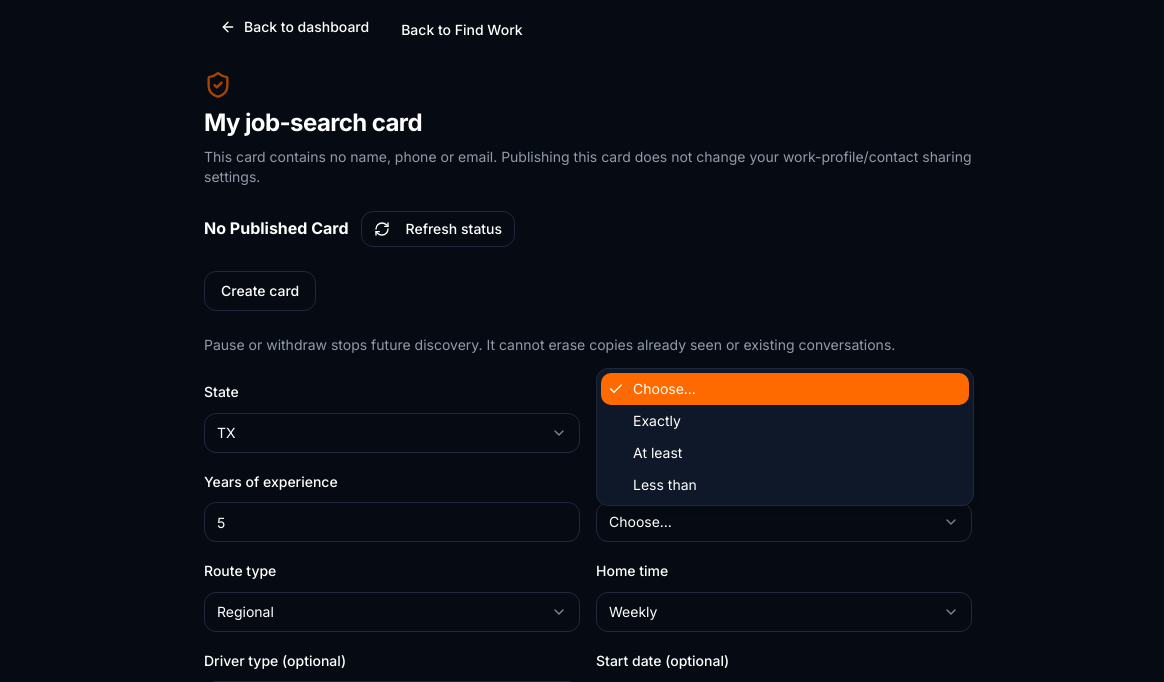
Test: editing invalidates review and consent; optional gross must be explicitly included
Earlier steps of the test are not shown.
Click the option "At least" at (658, 452), box [633, 444, 682, 461]
(page scrolled)
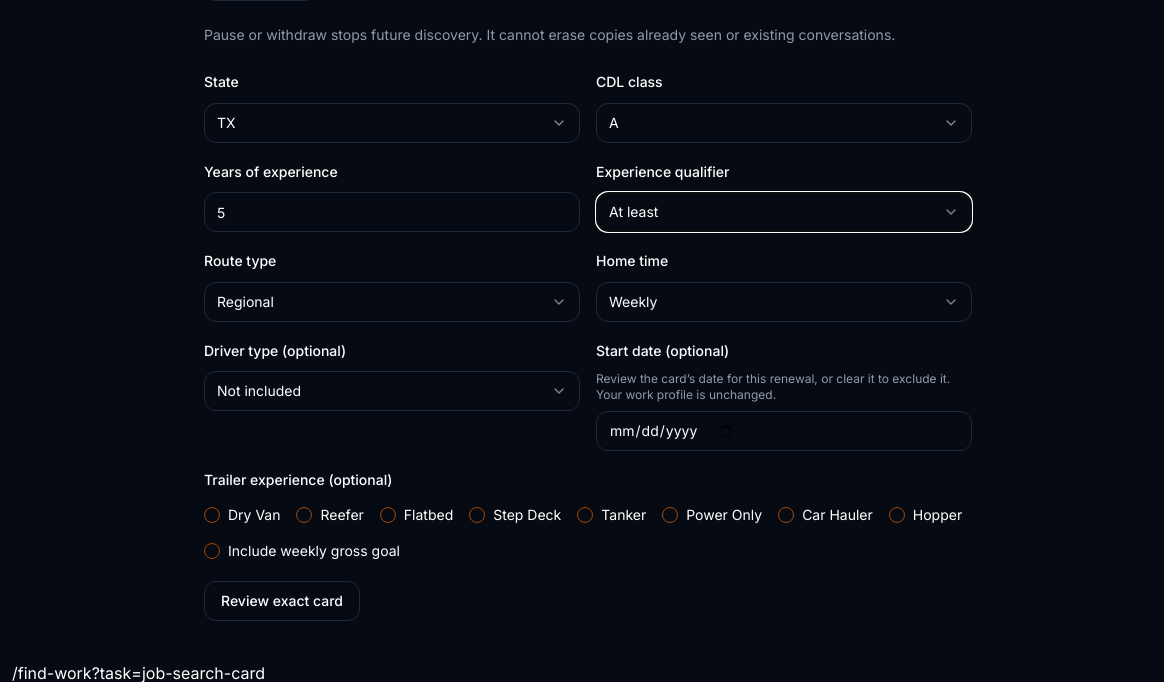
Click the button "Review exact card" at (282, 601), box [204, 581, 360, 621]
(page scrolled)
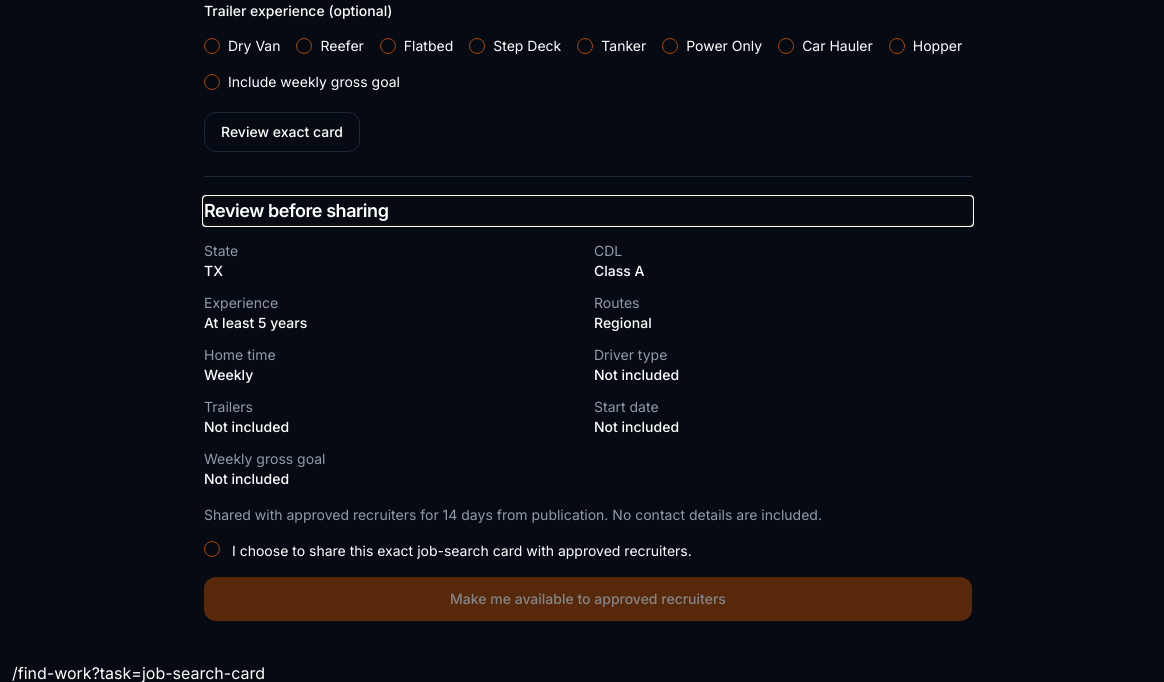
Result: the heading "Review before sharing" is shown at [204, 200, 388, 221]
Click the checkbox named "I choose" below "Trailers" at (212, 549), box [204, 541, 220, 557]
(page scrolled)
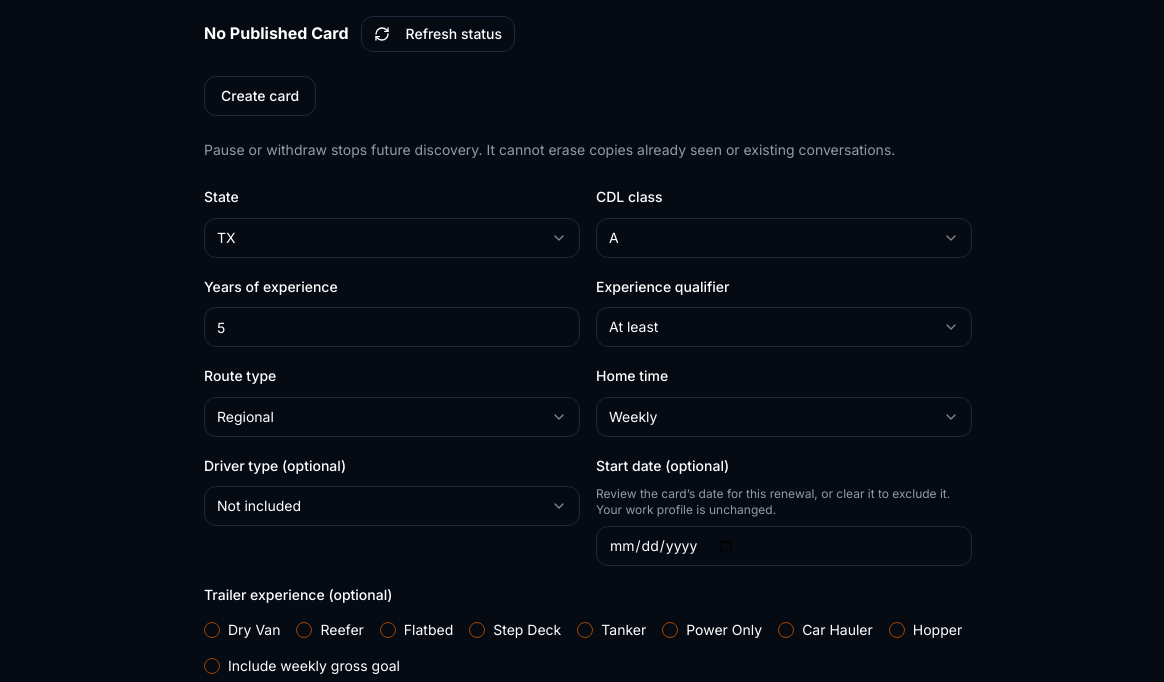
Replace the text in the number field labelled "Years of experience" with "6" at (392, 327), box [204, 307, 580, 347]
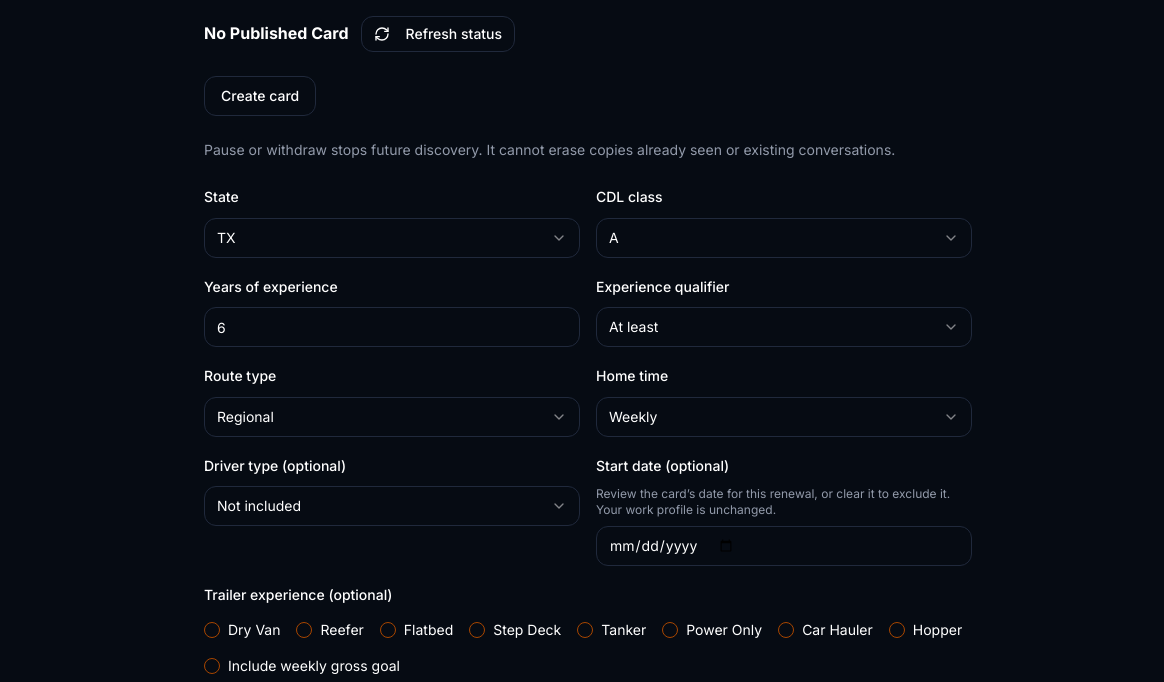
Expected: the heading "Review before sharing" is not shown
Click the checkbox named "Include weekly gross goal" next to "Include weekly gross goal" at (212, 666), box [204, 658, 220, 674]
(page scrolled)
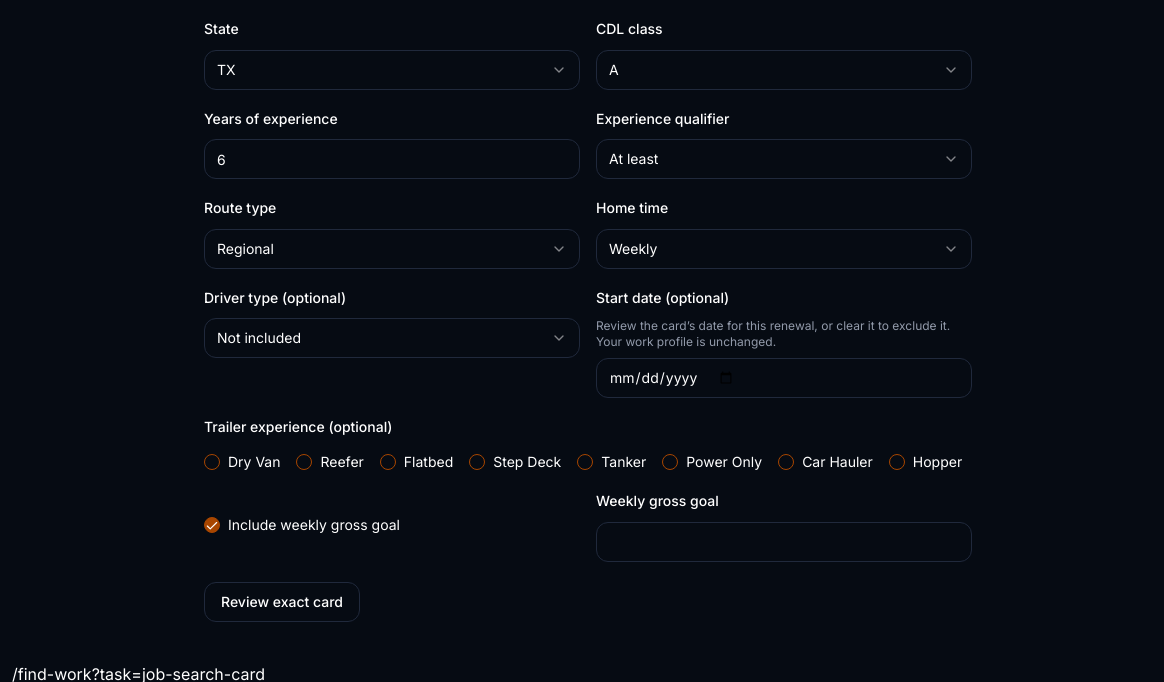
Type "1900" into the number field labelled "Weekly gross goal" at (784, 542), box [596, 522, 972, 562]
Click the button "Review exact card" at (282, 602), box [204, 582, 360, 622]
(page scrolled)
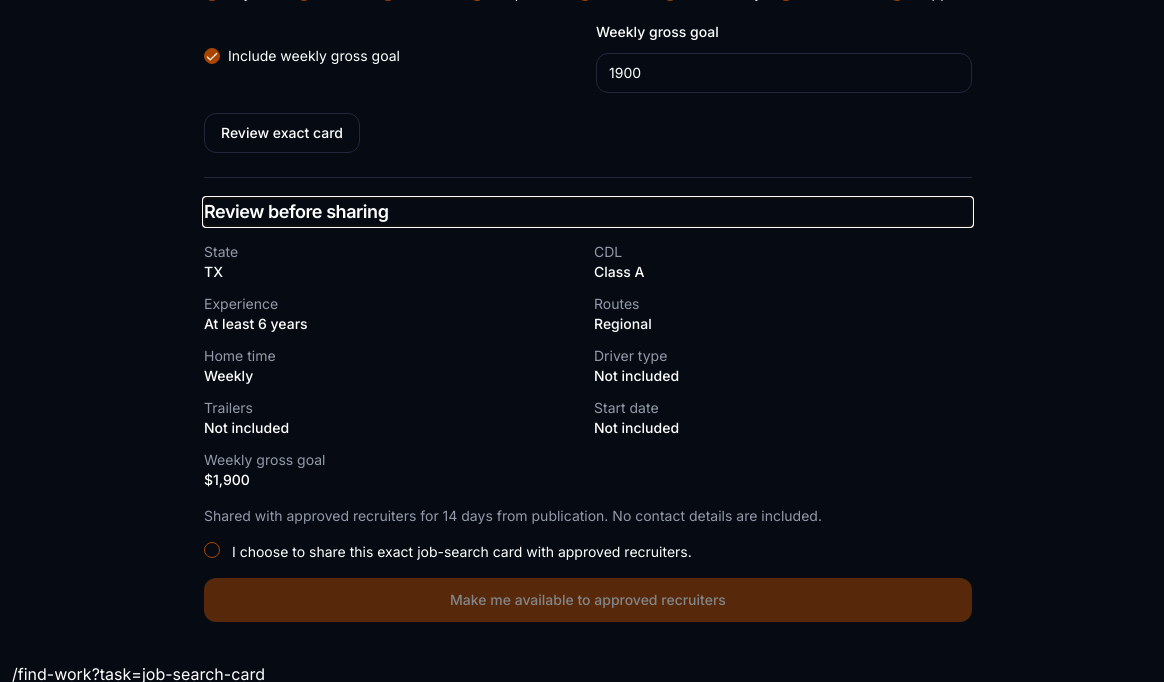
Result: the checkbox named "I choose" below "$1,900" is not checked at [204, 542, 220, 558]
Result: the text "$1,900" is shown at [204, 471, 250, 488]
